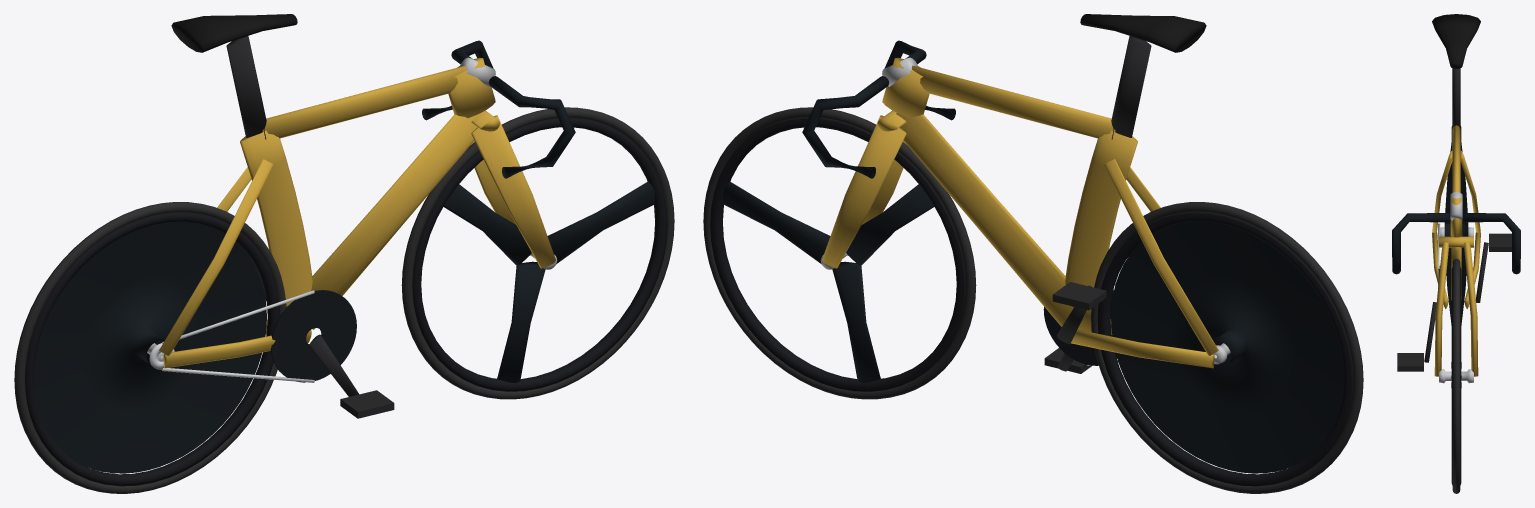
File: bike.glb
The picture shows the model from 3 angles, left to right: view 1: azimuth 30°, elevation 25°; view 2: azimuth 150°, elevation 25°; view 3: azimuth 270°, elevation 25°; orthographic projection. The views are drawn at different scales.
Parts seen in each view (by area): view 1: wheel_rear_disc, wheel_front_rim, wheel_rear_rim, down_tube, wheel_rear_tyre, wheel_front_tyre, seat_tube, chainring, top_tube, fork_l, saddle, wheel_front_blade2 (+11 smaller); view 2: wheel_rear_disc, wheel_rear_rim, wheel_front_rim, down_tube, wheel_rear_tyre, wheel_front_tyre, seat_tube, top_tube, fork_r, saddle, wheel_front_blade2, seatstay_r (+10 smaller); view 3: wheel_front_tyre, saddle, wheel_rear_disc, fork_r, fork_l, drop_r, drop_l, wheel_front_rim, top_tube, seatpost, pedal_l, pedal_r (+12 smaller).
Boxes of the visible parts, bbox=[...] form: wheel_rear_disc: bbox=[34, 221, 266, 473]; wheel_front_rim: bbox=[412, 118, 667, 391]; wheel_rear_rim: bbox=[25, 212, 280, 486]; down_tube: bbox=[311, 113, 481, 329]; wheel_rear_tyre: bbox=[14, 202, 286, 493]; wheel_front_tyre: bbox=[401, 107, 674, 399]; seat_tube: bbox=[240, 130, 312, 306]; chainring: bbox=[270, 290, 356, 382]; top_tube: bbox=[262, 65, 466, 138]; fork_l: bbox=[471, 115, 555, 268]; saddle: bbox=[171, 14, 297, 52]; wheel_front_blade2: bbox=[497, 261, 545, 382]; wheel_rear_disc: bbox=[1111, 221, 1343, 473]; wheel_rear_rim: bbox=[1097, 212, 1352, 486]; wheel_front_rim: bbox=[710, 118, 965, 391]; down_tube: bbox=[896, 113, 1073, 326]; wheel_rear_tyre: bbox=[1091, 202, 1363, 493]; wheel_front_tyre: bbox=[703, 107, 976, 399]; seat_tube: bbox=[1065, 130, 1137, 332]; top_tube: bbox=[911, 65, 1115, 138]; fork_r: bbox=[822, 115, 906, 268]; saddle: bbox=[1080, 14, 1206, 52]; wheel_front_blade2: bbox=[832, 261, 880, 382]; seatstay_r: bbox=[1104, 159, 1218, 355]; wheel_front_tyre: bbox=[1452, 258, 1460, 493]; saddle: bbox=[1432, 14, 1480, 68]; wheel_rear_disc: bbox=[1444, 143, 1468, 325]; fork_r: bbox=[1464, 242, 1478, 376]; fork_l: bbox=[1434, 242, 1448, 376]; drop_r: bbox=[1463, 213, 1520, 274]; drop_l: bbox=[1392, 213, 1449, 274]; wheel_front_rim: bbox=[1451, 267, 1461, 485]; top_tube: bbox=[1452, 125, 1460, 192]; seatpost: bbox=[1452, 68, 1460, 128]; pedal_l: bbox=[1397, 353, 1423, 371]; pedal_r: bbox=[1489, 233, 1511, 251].
Size of the model in its own units: 1.62 by 1.07 by 0.3651.
